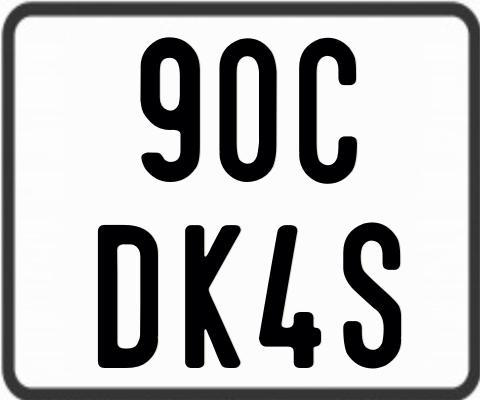0: (218, 36, 277, 183)
4: (258, 222, 322, 366)
9: (139, 34, 202, 184)
C: (296, 36, 358, 188)
D: (97, 225, 162, 368)
K: (184, 225, 241, 368)
S: (341, 221, 399, 373)
